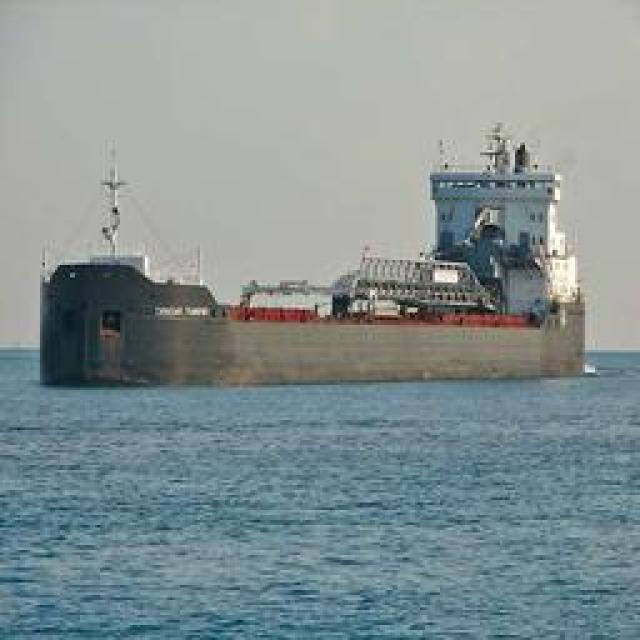CIV_Ship: (258, 124, 582, 368)
